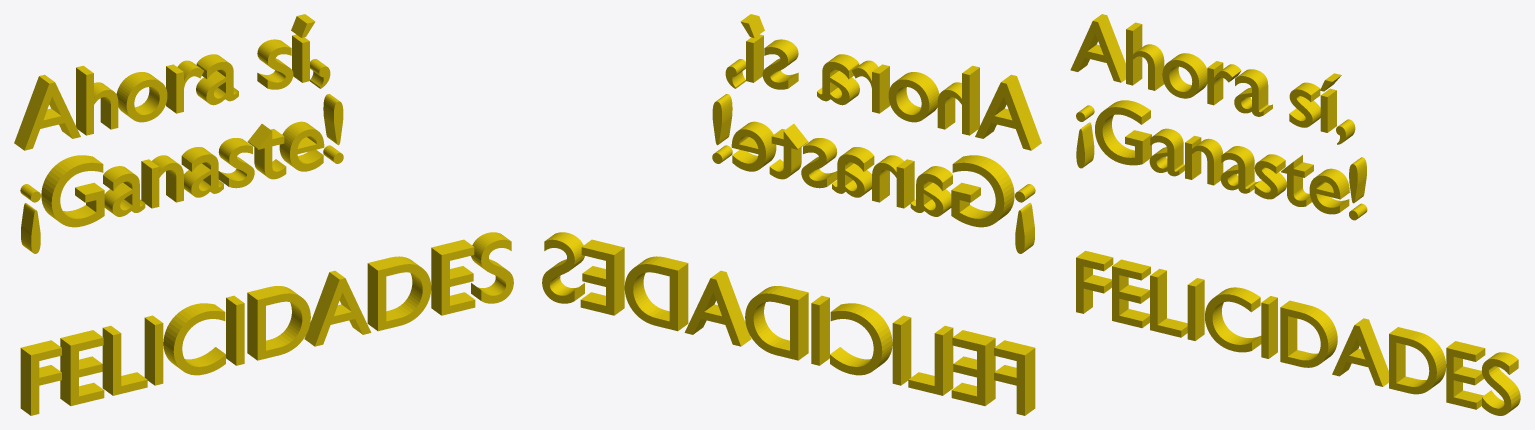
File: GANADOR.fbx
3 views of the same model, side by side, from view 1: azimuth 30°, elevation 25°; view 2: azimuth 150°, elevation 25°; view 3: azimuth 330°, elevation 25° (orthographic). The views are drawn at different scales.
Parts seen in each view (by area): view 1: Text.003; view 2: Text.003; view 3: Text.003.
Part boxes in pixels (x1=…): Text.003: x1=14, y1=14, x2=513, y2=415; Text.003: x1=542, y1=14, x2=1041, y2=415; Text.003: x1=1070, y1=14, x2=1520, y2=415.
Bounding box in the file's own units: 576 × 370 × 21.15.
